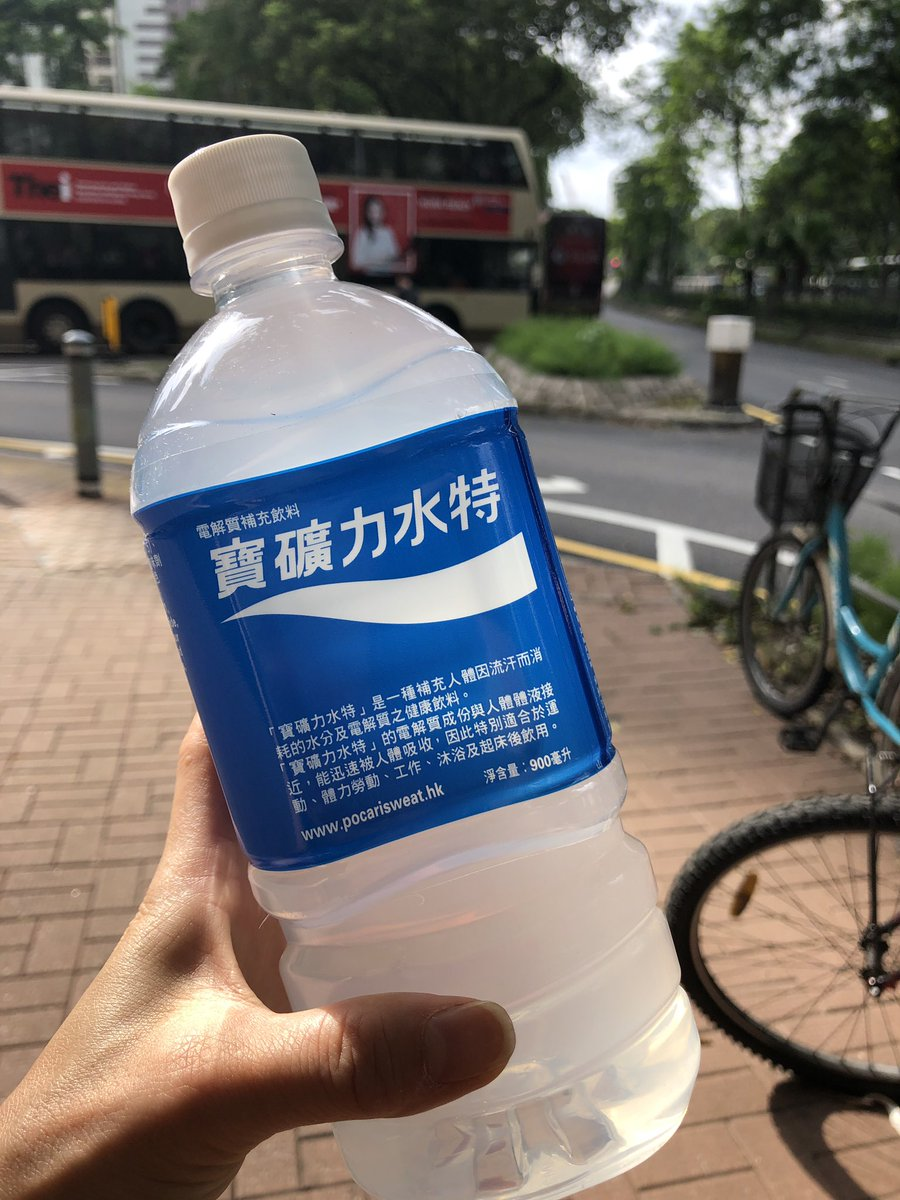POCARI SWEAT: (108, 128, 714, 1181)
